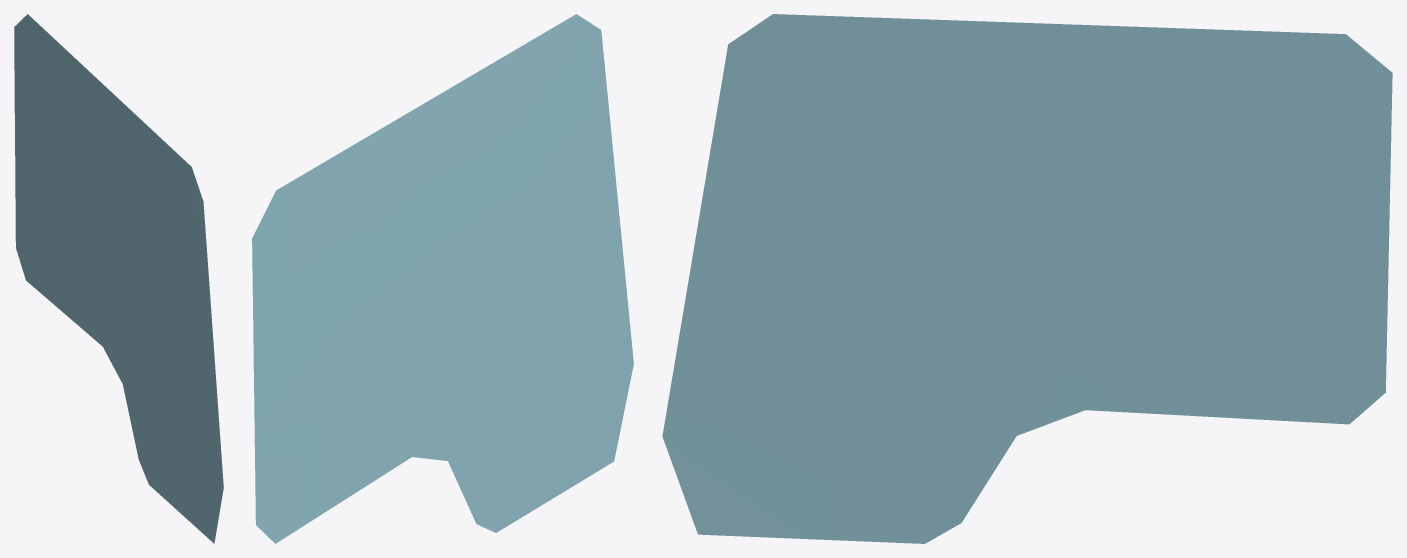
Rendered from Truck_1_Door_Window_FL_Tessellate.fbx.
The picture shows the model from 3 angles, left to right: view 1: azimuth 30°, elevation 25°; view 2: azimuth 150°, elevation 25°; view 3: azimuth 270°, elevation 25°; orthographic projection. The views are drawn at different scales.
Visible parts, largest first — view 1: Truck_1_Door_Window_FL_Tessellate; view 2: Truck_1_Door_Window_FL_Tessellate; view 3: Truck_1_Door_Window_FL_Tessellate.
Boxes of the visible parts, bbox=[...] form: Truck_1_Door_Window_FL_Tessellate: bbox=[14, 14, 223, 543]; Truck_1_Door_Window_FL_Tessellate: bbox=[252, 14, 633, 543]; Truck_1_Door_Window_FL_Tessellate: bbox=[662, 14, 1392, 543].
Bounding box in the file's own units: 68.83 × 591 × 744.
